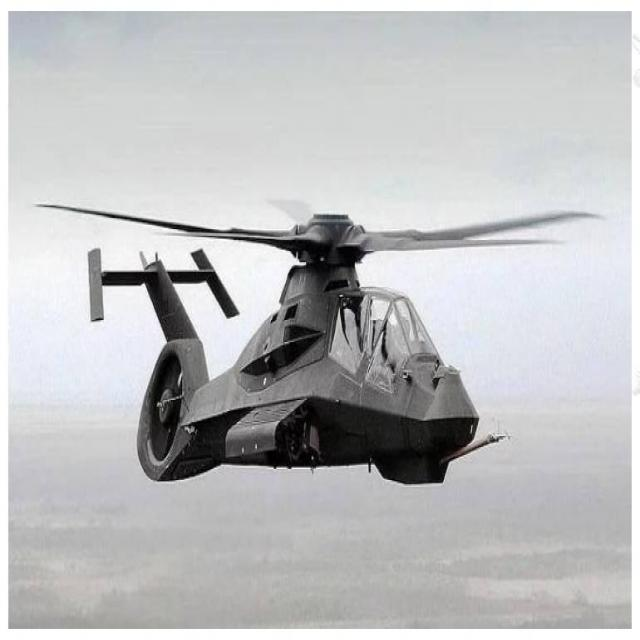MIL_HELO: (34, 176, 605, 488)
